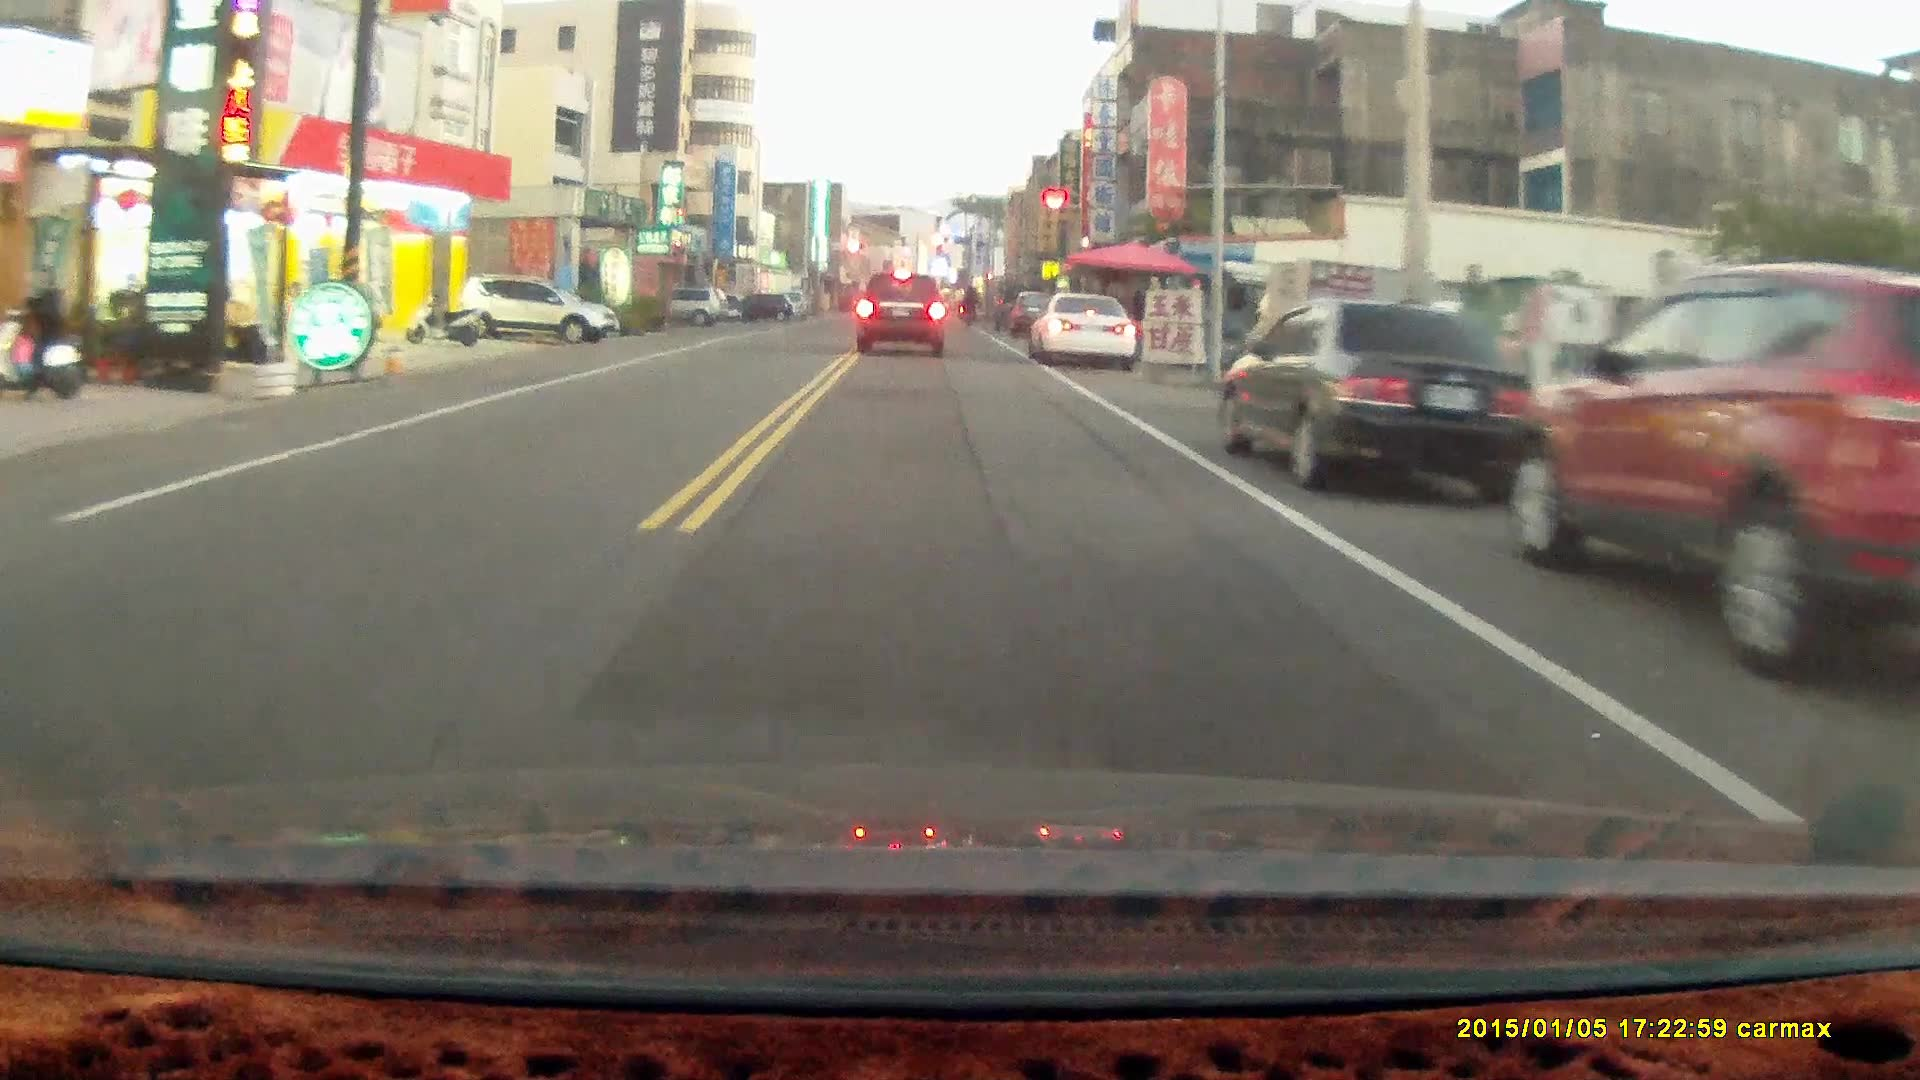vehicle: (1515, 261, 1920, 698), (1215, 299, 1545, 495), (459, 273, 622, 345), (1030, 295, 1142, 372), (856, 272, 947, 360)
